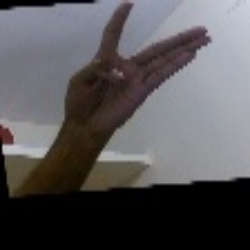hand: (43, 1, 217, 117)
